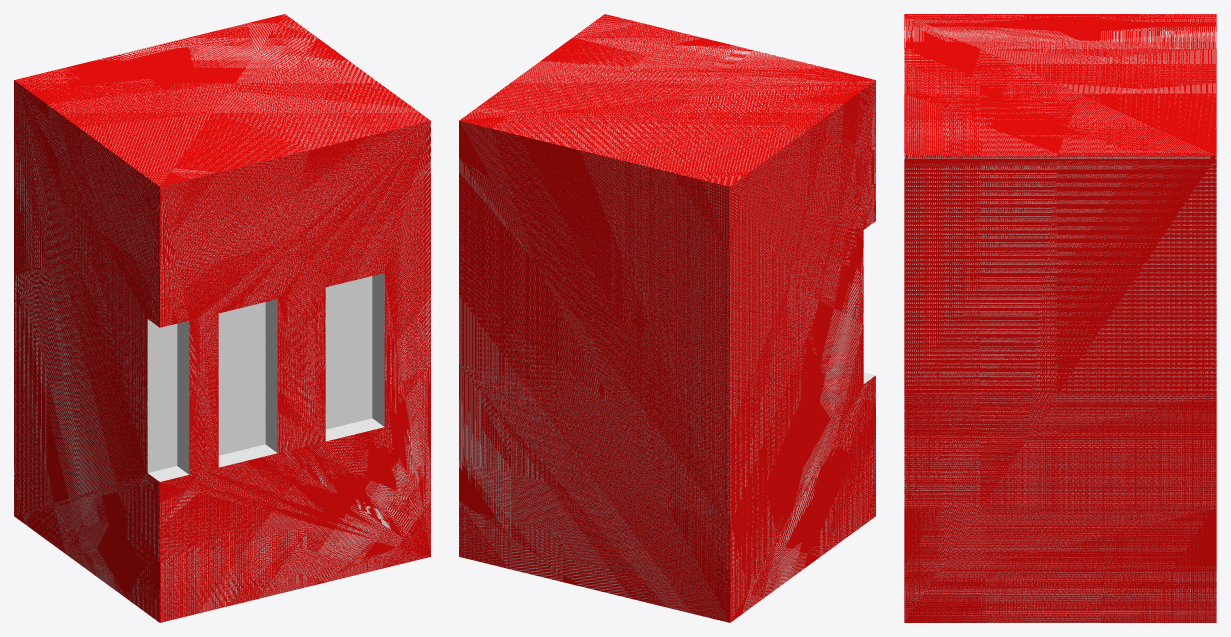
File: original-9.obj
3 renders of one model, left to right at view 1: azimuth 30°, elevation 25°; view 2: azimuth 150°, elevation 25°; view 3: azimuth 270°, elevation 25°, orthographic. The views are drawn at different scales.
Parts seen in each view (by area): view 1: mesh4/mesh4-geometry#mesh4-geometry; view 2: mesh4/mesh4-geometry#mesh4-geometry; view 3: mesh4/mesh4-geometry#mesh4-geometry.
Part boxes in pixels (x1=…): mesh4/mesh4-geometry#mesh4-geometry: x1=14, y1=14, x2=430, y2=622; mesh4/mesh4-geometry#mesh4-geometry: x1=459, y1=14, x2=875, y2=622; mesh4/mesh4-geometry#mesh4-geometry: x1=904, y1=14, x2=1216, y2=622.
Bounding box in the file's own units: 0.8865 × 1.36 × 0.826.
